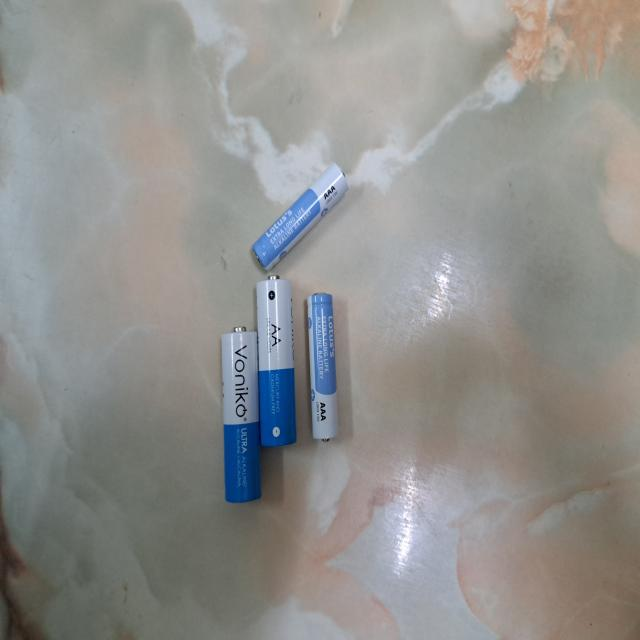battery: (252, 162, 350, 274), (220, 324, 262, 504), (257, 274, 296, 448), (307, 292, 339, 444)
